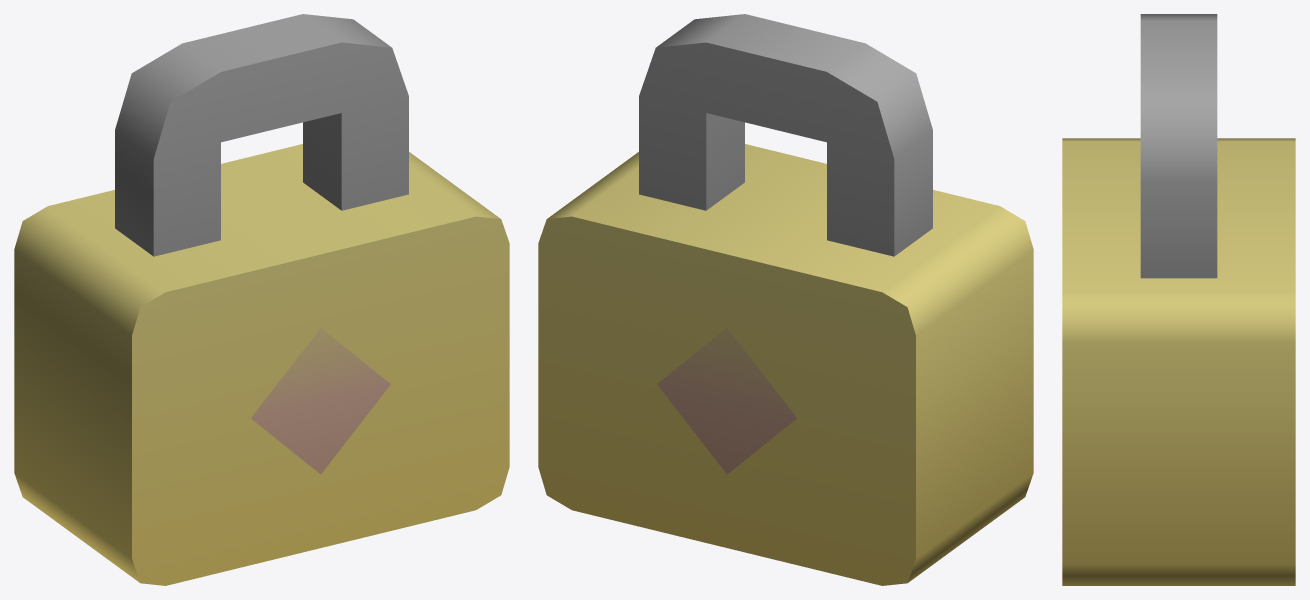
Rendered from padlock.gltf.
The picture shows the model from 3 angles, left to right: view 1: azimuth 30°, elevation 25°; view 2: azimuth 150°, elevation 25°; view 3: azimuth 270°, elevation 25°; orthographic projection.
Visible parts, largest first — view 1: padlock; view 2: padlock; view 3: padlock.
Part boxes in pixels (x1,y1,x2,y2): padlock: [14, 14, 509, 585]; padlock: [538, 14, 1033, 585]; padlock: [1062, 14, 1295, 585].
Bounding box in the file's own units: 0.3433 × 0.4012 × 0.1853.
